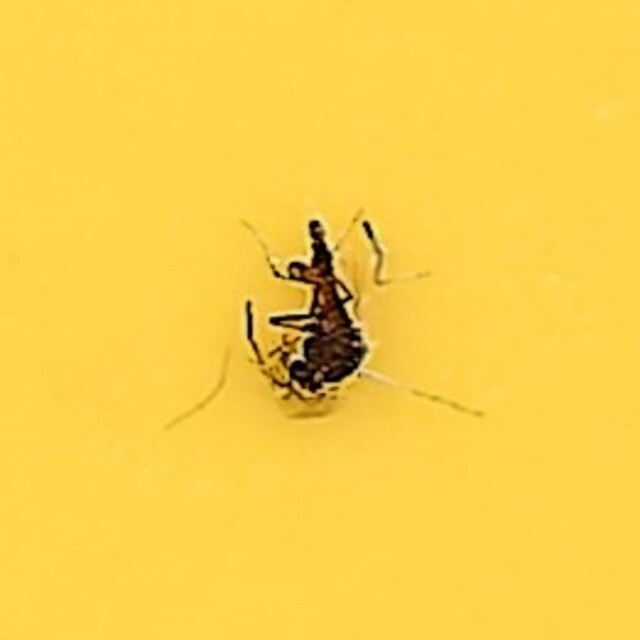Nematocera: (245, 218, 395, 422)
